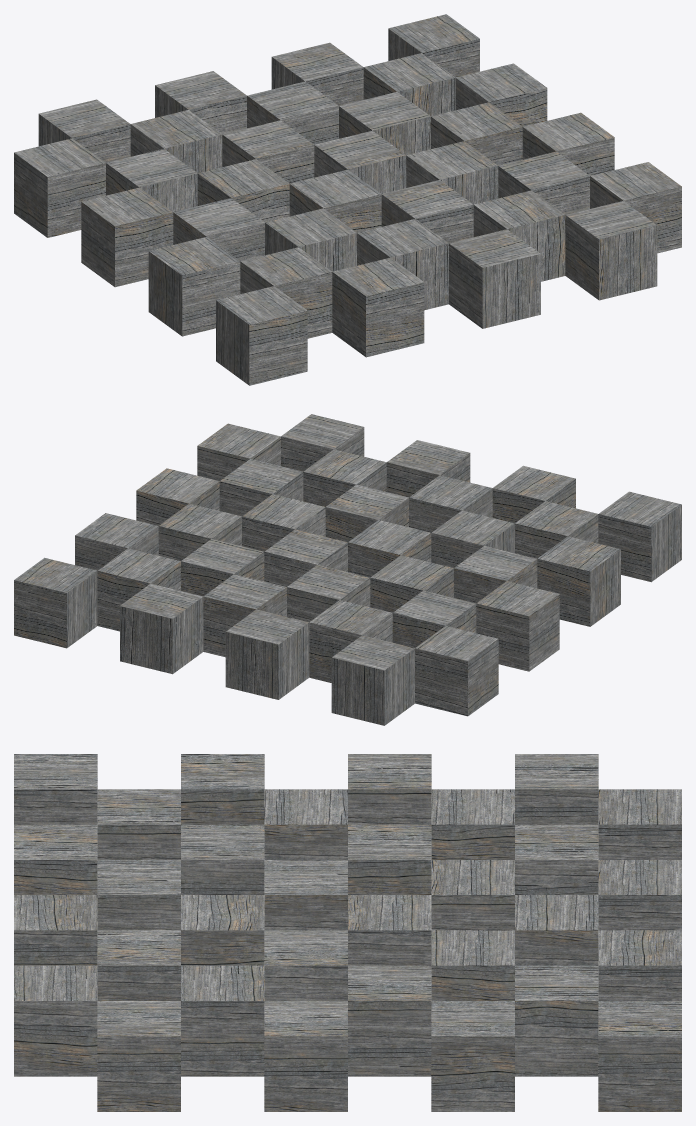
Rendered from Szachownica_base_color.obj.
3 renders of one model, top to bottom at view 1: azimuth 30°, elevation 25°; view 2: azimuth 150°, elevation 25°; view 3: azimuth 270°, elevation 25°, orthographic. The views are drawn at different scales.
Parts seen in each view (by area): view 1: Cube.001; view 2: Cube.001; view 3: Cube.001.
Part boxes in pixels (x1,y1,x2,y2): Cube.001: (14, 14, 681, 385); Cube.001: (14, 414, 681, 725); Cube.001: (14, 754, 681, 1111).
Size of the model in its own units: 8 by 1 by 8.
1 material, 1 textured.
